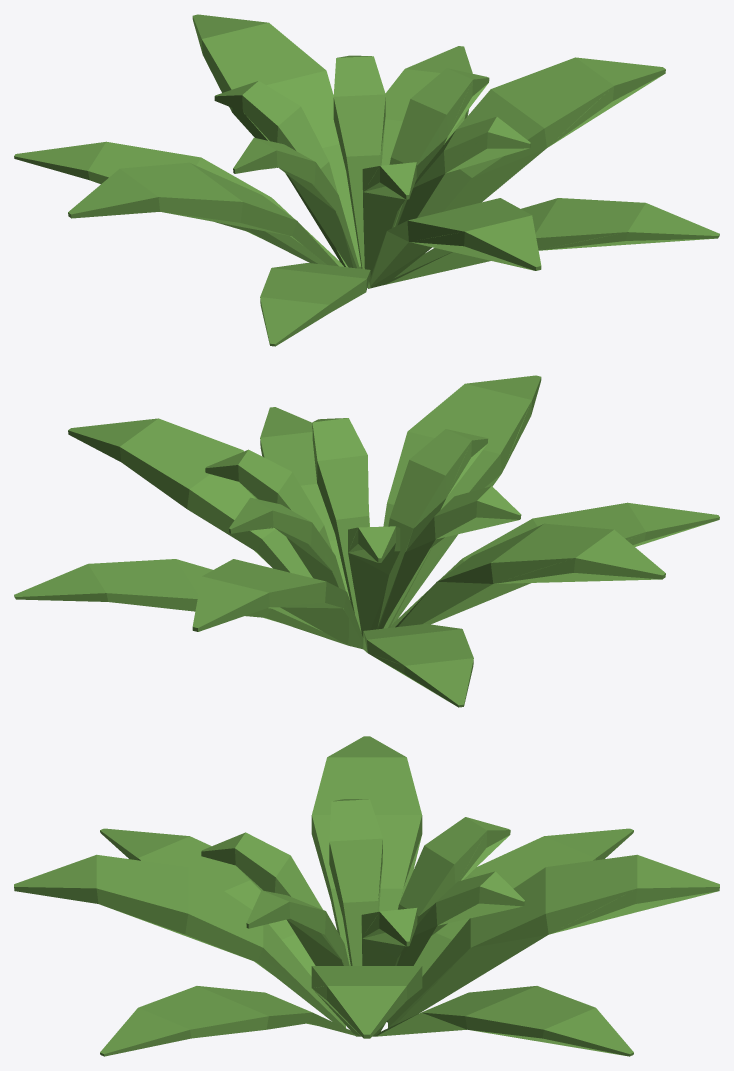
3 renders of one model, top to bottom at view 1: azimuth 30°, elevation 25°; view 2: azimuth 150°, elevation 25°; view 3: azimuth 270°, elevation 25°, orthographic. The views are drawn at different scales.
Visible parts, largest first — view 1: Fougere_280, Fougere_70, Fougere_140; view 2: Fougere_280, Fougere_140, Fougere_70; view 3: Fougere_280, Fougere_140, Fougere_70.
Boxes of the visible parts, x1,y1,x2,y2 form: Fougere_280: (14, 14, 719, 346); Fougere_70: (262, 74, 713, 286); Fougere_140: (164, 89, 608, 288); Fougere_280: (14, 375, 719, 707); Fougere_140: (241, 408, 631, 662); Fougere_70: (255, 443, 715, 700); Fougere_280: (14, 736, 719, 1056); Fougere_140: (107, 837, 623, 1036); Fougere_70: (254, 835, 717, 1055).
Size of the model in its own units: 279 by 75.25 by 279.
